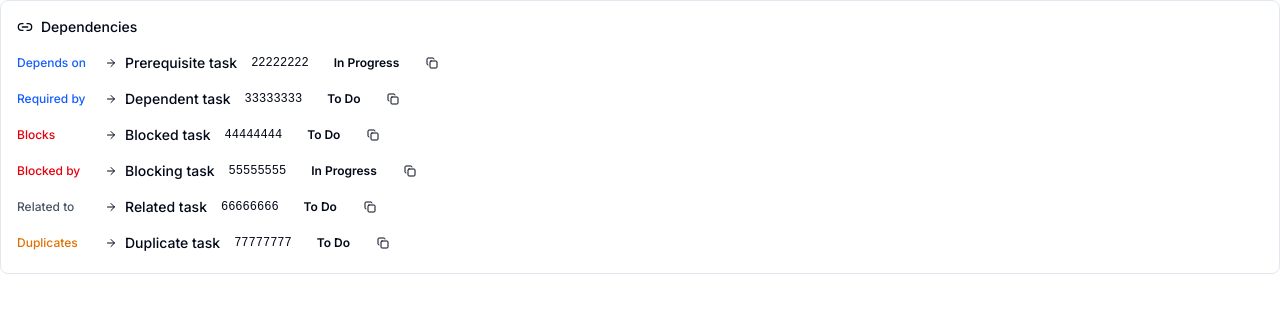
Test: task dependency directions › lets the user copy the full counterpart task ID instead of only seeing its abbreviated prefix
The width and height of the screenshot is (1280, 315).
Expected: the text "22222222" is shown, [251,56,309,70]
Click the button named "Copy task ID 22222222-2222-4222-8222-222222222222".
click(432, 63)  # box [418,49,446,77]
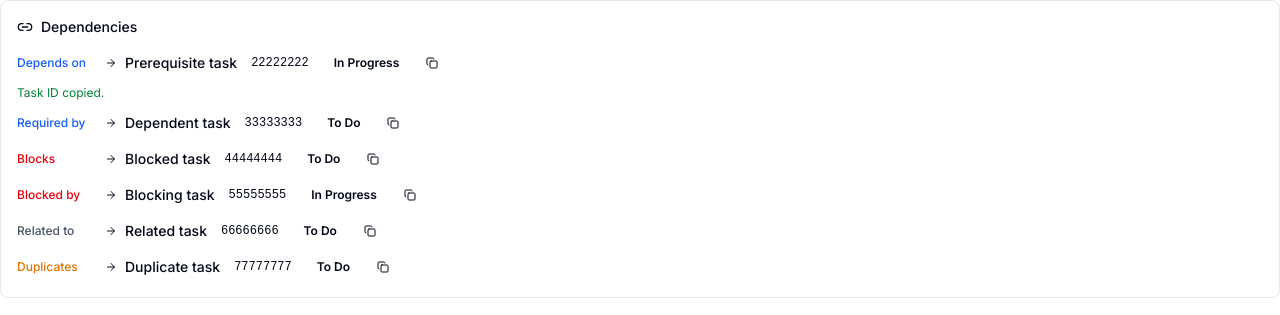
Expected: the message reads "Task ID copied.", [17,85,104,100]
